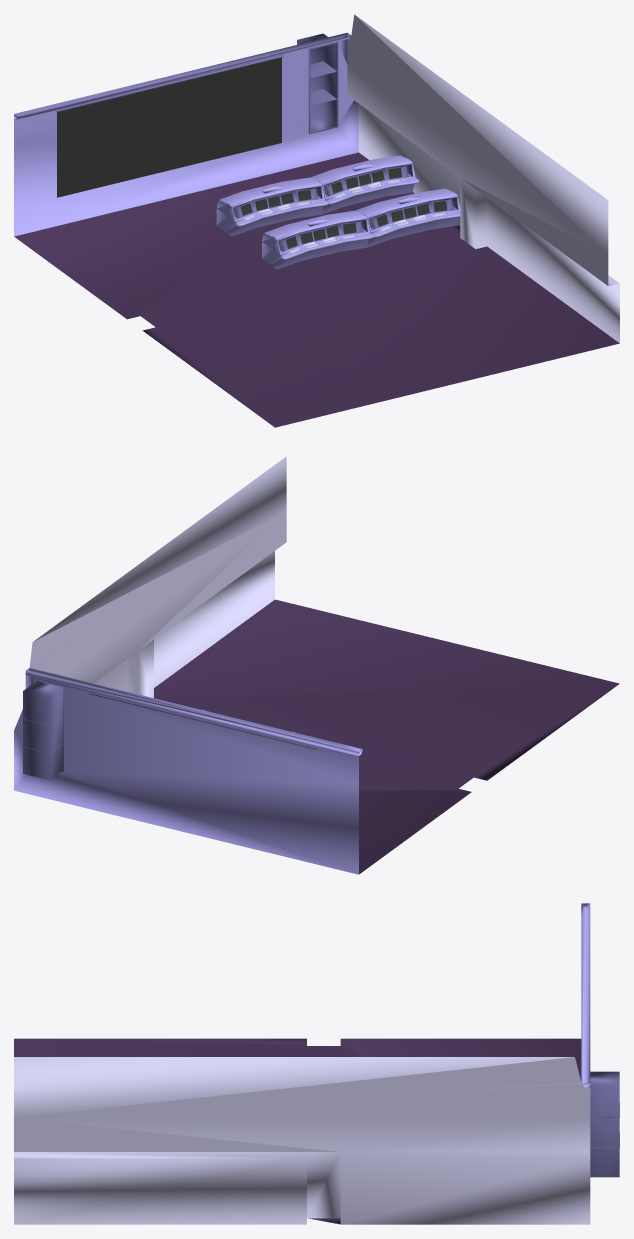
The model's file is controlroom.gltf.
3 renders of one model, top to bottom at view 1: azimuth 30°, elevation 25°; view 2: azimuth 150°, elevation 25°; view 3: azimuth 270°, elevation 25°, orthographic. The views are drawn at different scales.
Parts seen in each view (by area): view 1: jscmiscon1_27, jscmiscon1_42, jscmiscon1_43, jscmiscon1_40, jscmiscon1_44, jscmiscon1_4, jscmiscon1_1, jscmiscon1_6, jscmiscon1_41, jscmiscon1_5, jscmiscon1; view 2: jscmiscon1_27, jscmiscon1_43, jscmiscon1_42, jscmiscon1_44, jscmiscon1_1; view 3: jscmiscon1_42, jscmiscon1_44, jscmiscon1_27, jscmiscon1_1, jscmiscon1_43.
Boxes of the visible parts, bbox=[...] form: jscmiscon1_27: bbox=[14, 152, 619, 427]; jscmiscon1_42: bbox=[347, 64, 619, 343]; jscmiscon1_43: bbox=[14, 32, 358, 236]; jscmiscon1_40: bbox=[57, 57, 281, 197]; jscmiscon1_44: bbox=[347, 14, 608, 254]; jscmiscon1_4: bbox=[216, 155, 460, 269]; jscmiscon1_1: bbox=[55, 33, 338, 134]; jscmiscon1_6: bbox=[233, 164, 458, 252]; jscmiscon1_41: bbox=[241, 167, 447, 248]; jscmiscon1_5: bbox=[235, 177, 460, 259]; jscmiscon1: bbox=[243, 179, 449, 253]; jscmiscon1_27: bbox=[154, 599, 619, 874]; jscmiscon1_43: bbox=[14, 668, 362, 874]; jscmiscon1_42: bbox=[62, 511, 286, 697]; jscmiscon1_44: bbox=[26, 456, 286, 675]; jscmiscon1_1: bbox=[23, 680, 317, 780]; jscmiscon1_42: bbox=[14, 1118, 590, 1224]; jscmiscon1_44: bbox=[14, 1057, 590, 1117]; jscmiscon1_27: bbox=[14, 1038, 581, 1224]; jscmiscon1_1: bbox=[590, 1071, 619, 1177]; jscmiscon1_43: bbox=[581, 903, 590, 1087].
Bounding box in the file's own units: 14.51 × 5.88 × 19.99.
